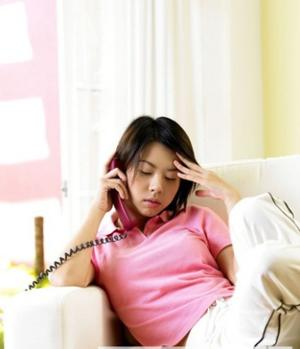person: (49, 113, 299, 348)
